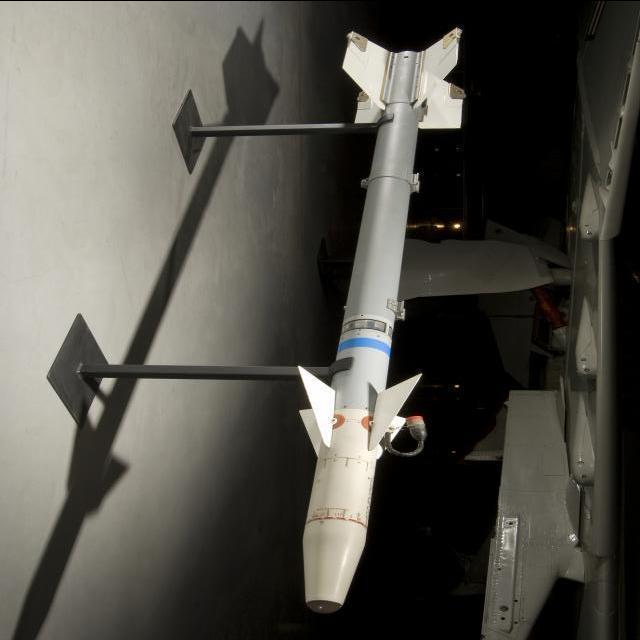missile: (296, 27, 466, 612)
